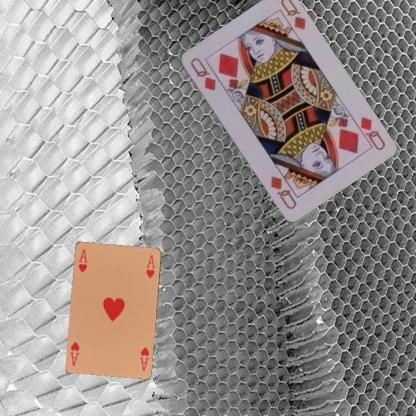Ah: (136, 344, 150, 372), (76, 246, 88, 274)
Qd: (350, 114, 386, 151), (187, 54, 218, 94)
